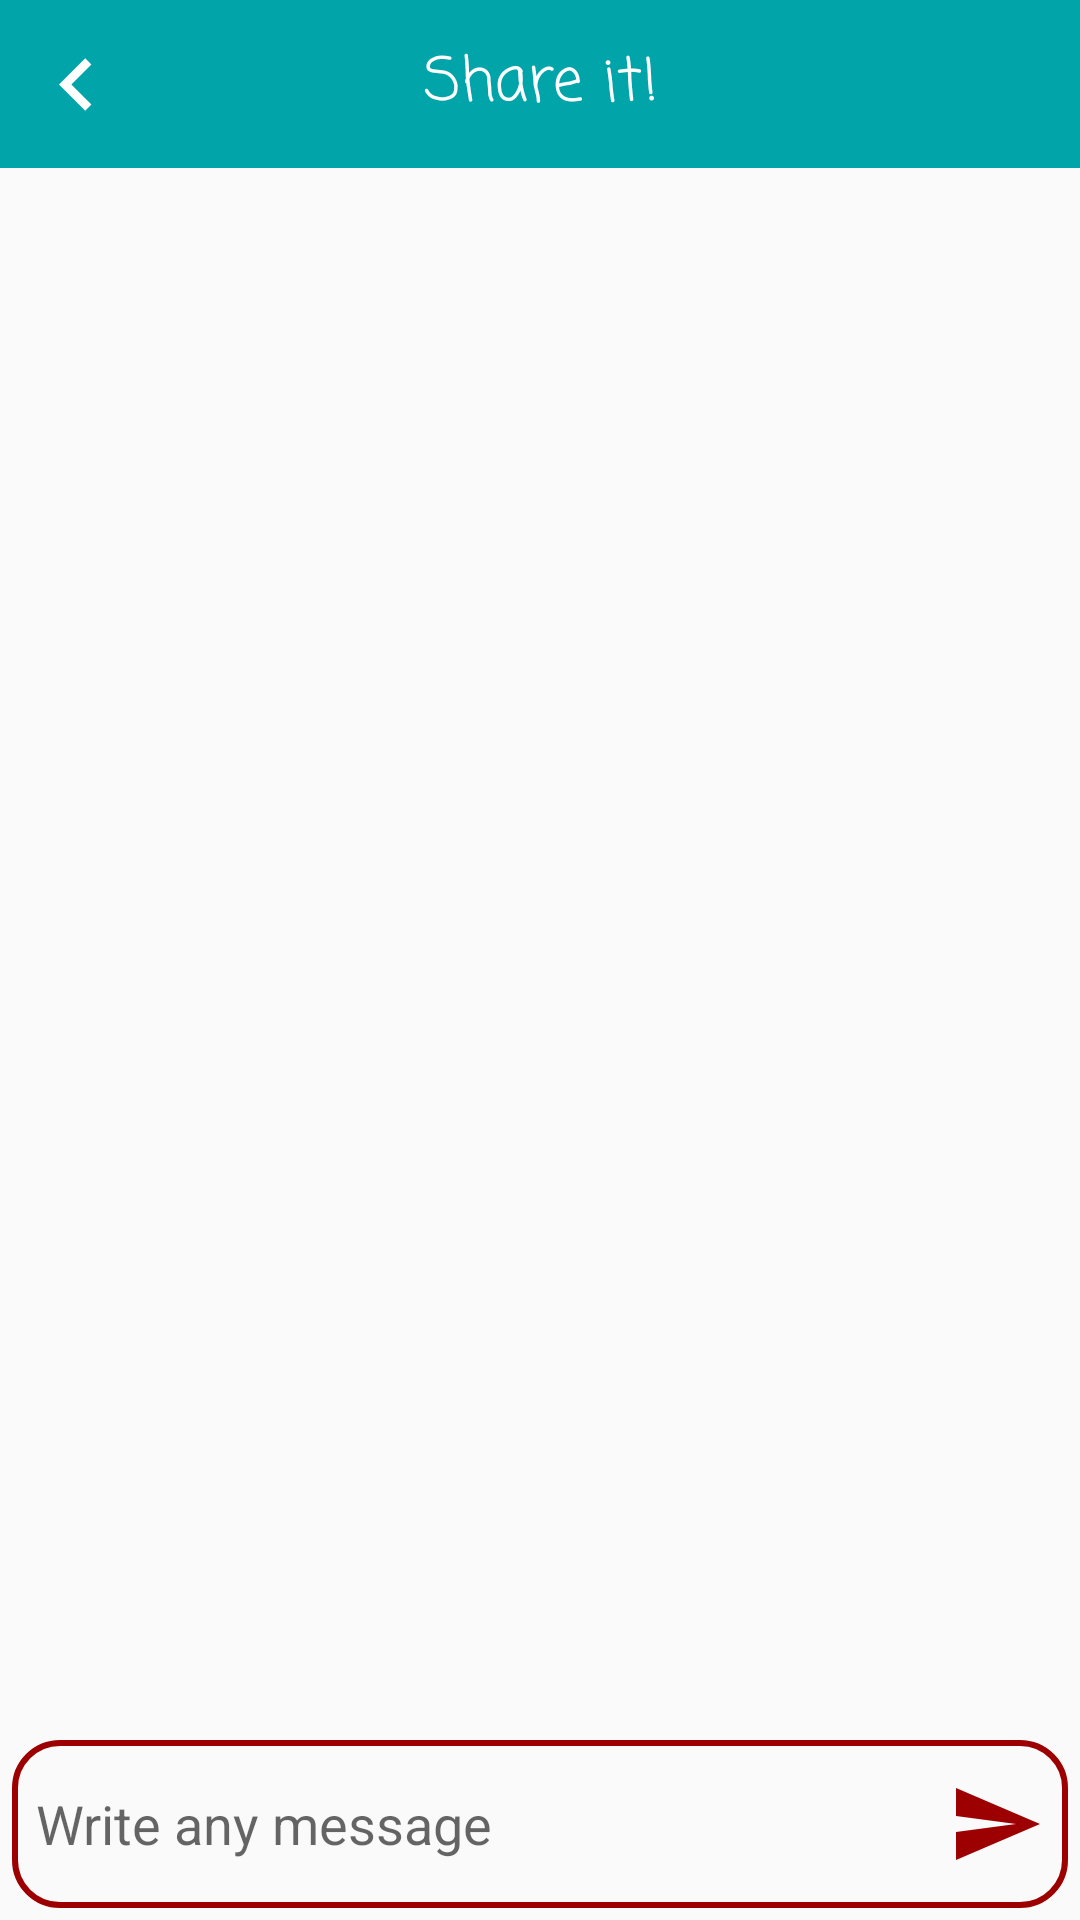

Point at icon controls on the screen. Image size 1080 x 1920, points as point (x, y).
back: point (75, 84)
send: point (998, 1824)
